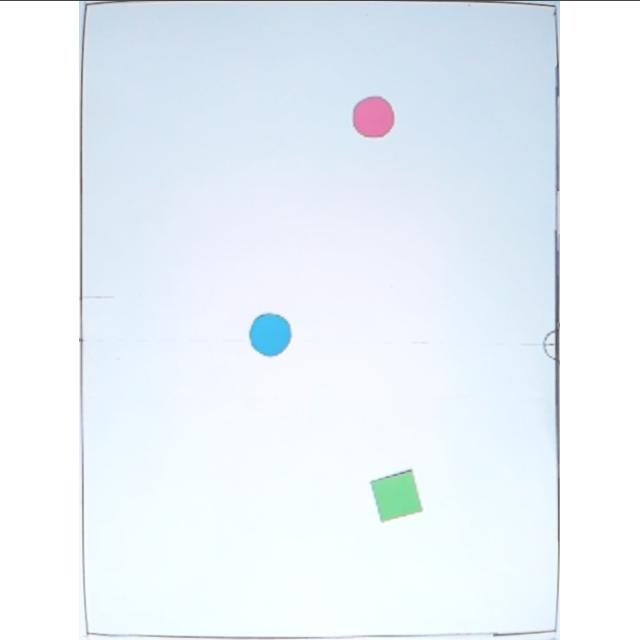blueCircle: (250, 309, 294, 356)
greenSquare: (367, 468, 427, 524)
pinkCircle: (349, 95, 397, 138)
